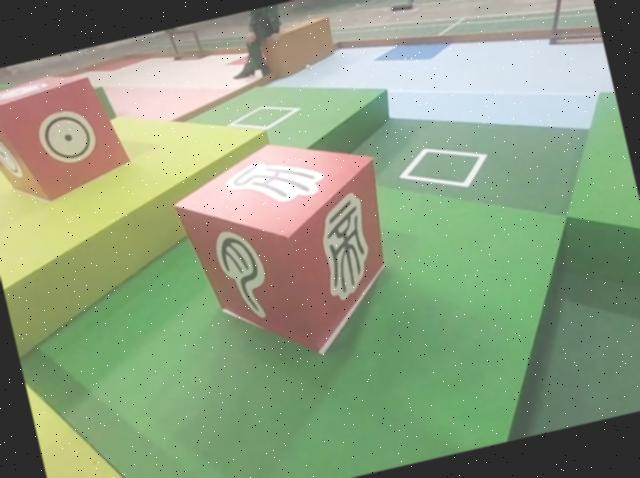R2 Fake: (165, 119, 413, 380)
R2 Real: (0, 59, 137, 218)
